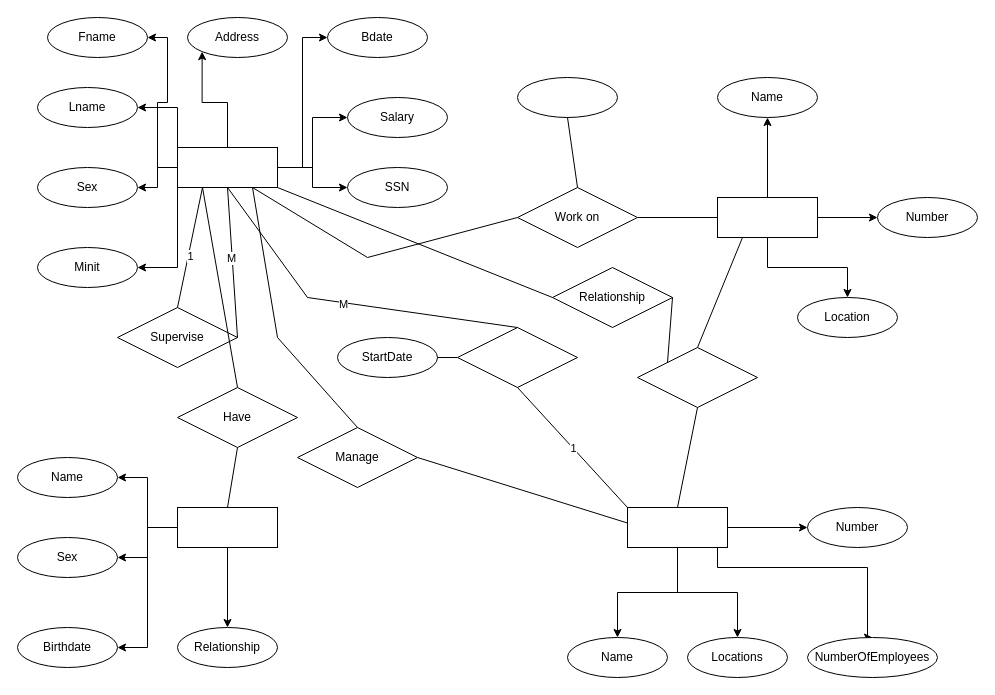
Image size: 995x695. Some labels were removed from this diagram. Here are the shapes that lost their labels. From the top down, the centre of each, then its label:
At pixel 567 97: "logged hours".
At pixel 227 167: "EMPLOYEE".
At pixel 767 217: "PROJECT".
At pixel 517 357: "Work for".
At pixel 697 377: "Controls".
At pixel 227 527: "DEPENDENT".
At pixel 677 527: "DEPARTMENT".
